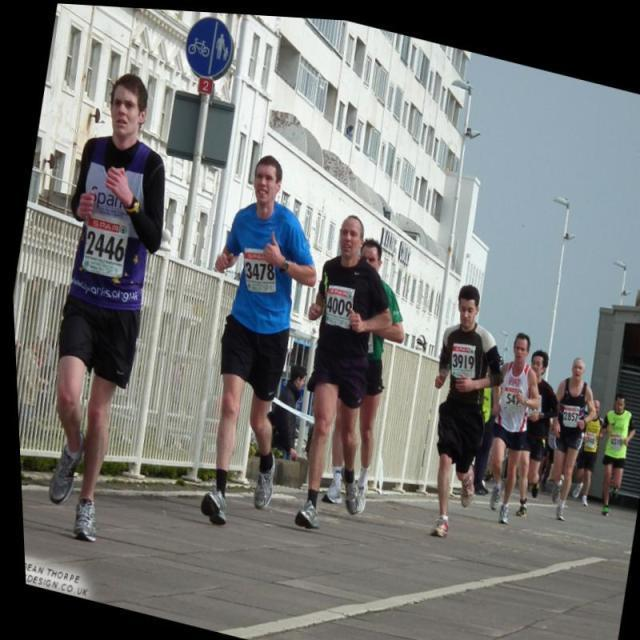dorsal: (68, 202, 134, 284), (226, 235, 284, 298), (312, 273, 358, 332), (438, 324, 481, 382), (552, 392, 582, 425), (492, 378, 522, 408), (600, 418, 622, 446)
